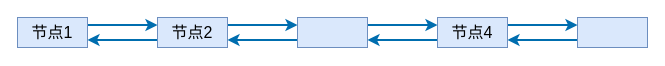
The diagram is 665 pixels wide and 66 high, and some of its shapes have lost their labels. Each missing label, with the centre of its shape:
"节点3" goes at [332,32].
"节点5" goes at [612,32].
